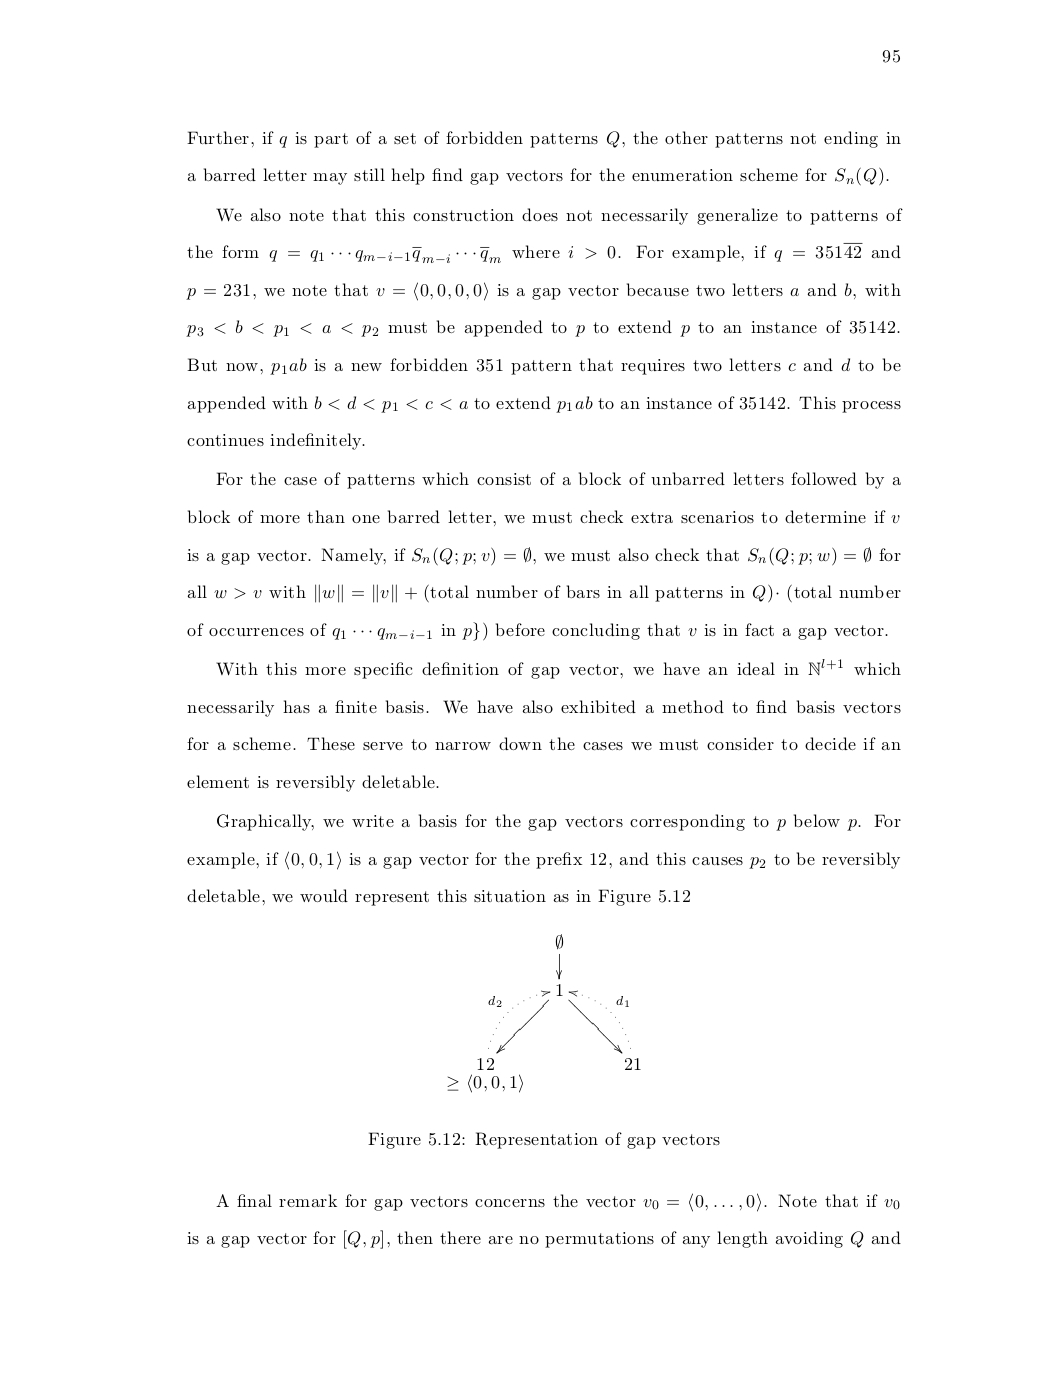figure: (447, 934, 640, 1092)
